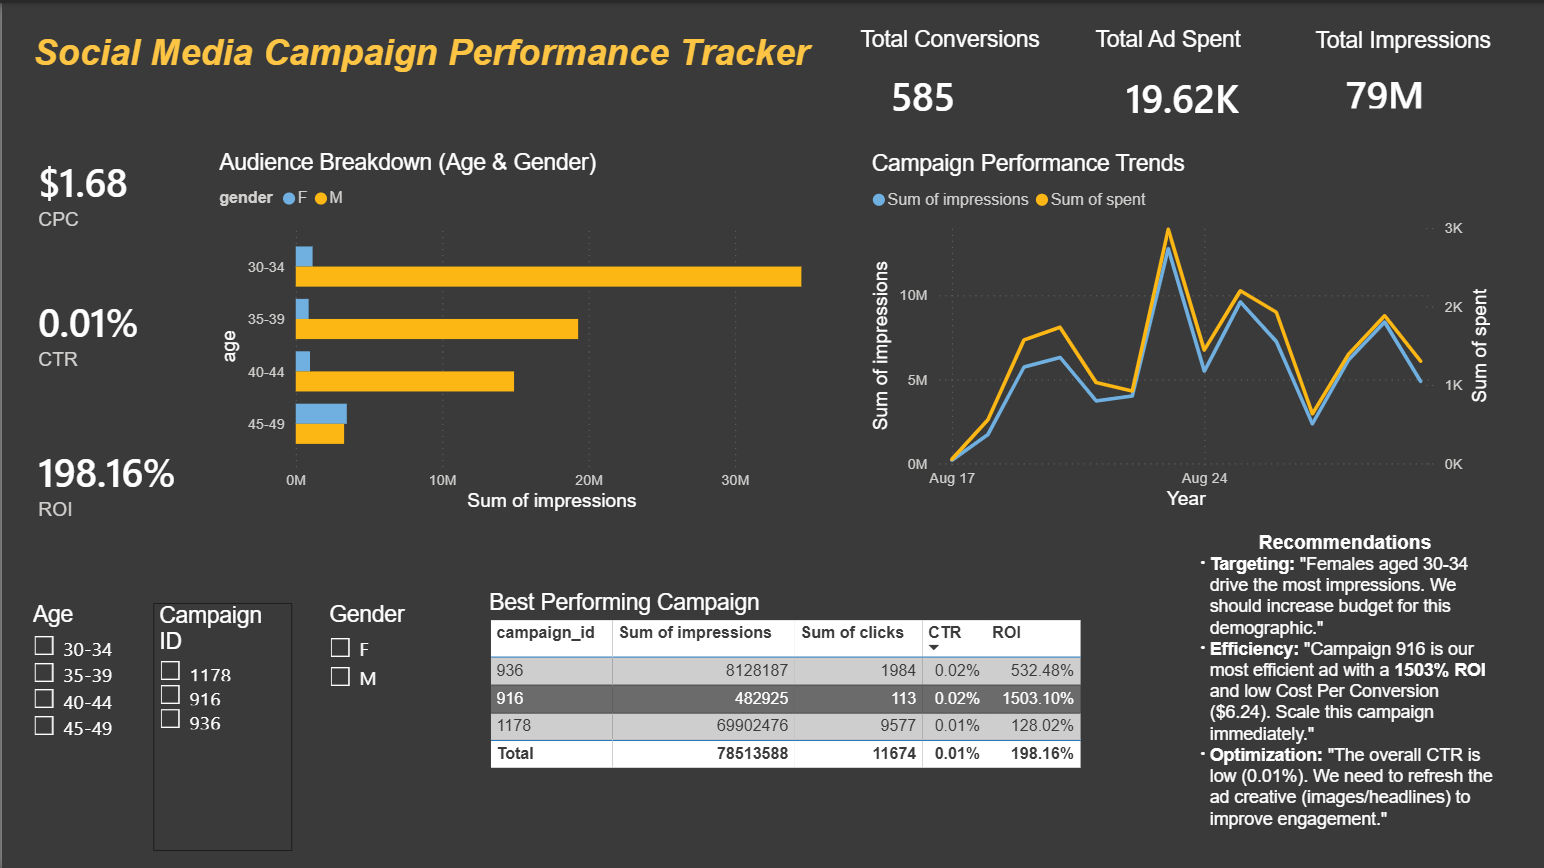

What the dashboard file says about the page in this screenshot:
{"tool":"powerbi","page":{"name":"Page 1","canvas":[1280,720],"ordinal":0},"visuals":[{"type":"cardVisual","title":"Total Ad Spent","fields":{"Data":["Sum(data.spent)"]},"box":[901.5,19.2,163.3,91.9],"z":0},{"type":"cardVisual","title":"Total Impressions","fields":{"Data":["Sum(data.impressions)"]},"box":[1084.1,20.6,166,85.1],"z":1000},{"type":"cardVisual","fields":{"Data":["data.CTR"]},"box":[0,221.3,177,102.1],"z":2000},{"type":"cardVisual","title":"Total Conversions","fields":{"Data":["Sum(data.approved_conversion)"]},"box":[706.7,19.2,168.8,87.8],"z":3000},{"type":"lineChart","title":"Campaign Performance Trends","fields":{"Y":["Sum(data.impressions)"],"Category":["data.reporting_start.Variation.Date Hierarchy.Year","data.reporting_start.Variation.Date Hierarchy.Quarter","data.reporting_start.Variation.Date Hierarchy.Month","data.reporting_start.Variation.Date Hierarchy.Day"],"Y2":["Sum(data.spent)"]},"box":[716.3,122.1,522.8,301.9],"z":4000},{"type":"tableEx","title":"Best Performing Campaign","fields":{"Values":["data.campaign_id","Sum(data.impressions)","Sum(data.clicks)","data.CTR","data.ROI"]},"box":[399.3,485.8,502.2,183.9],"z":5000},{"type":"listSlicer","title":"Gender","fields":{"Values":["data.gender"]},"box":[266.3,496.4,81.9,223.8],"z":5500},{"type":"listSlicer","title":"Campaign ID","fields":{"Values":["data.campaign_id"]},"box":[125.4,497.4,115,206.2],"z":6000},{"type":"listSlicer","title":"Age","fields":{"Values":["data.age"]},"box":[20.7,496.4,97.4,206.2],"z":8500},{"type":"cardVisual","fields":{"Data":["data.ROI"]},"box":[0,347.2,183.9,100.2],"z":9000},{"type":"cardVisual","fields":{"Data":["data.CPC"]},"box":[0,105.7,175.6,102.9],"z":10000},{"type":"textbox","box":[978.4,433.6,270.3,286.8],"z":11000},{"type":"textbox","box":[9.6,19.2,676.5,70],"z":12000},{"type":"clusteredBarChart","title":"Audience Breakdown (Age & Gender)","fields":{"Category":["data.age"],"Series":["data.gender"],"Y":["Sum(data.impressions)"]},"box":[175.6,120.8,510.5,304.6],"z":12500}]}

Visuals, with their boxes in screenshot pixels (x1, y1, x2, y2), scaled from the page's 1280x720 canvas onto the 1544x868 screenshot:
"Total Ad Spent" cardVisual: Rect(1087, 23, 1284, 134)
"Total Impressions" cardVisual: Rect(1308, 25, 1508, 127)
cardVisual - data.CTR: Rect(0, 267, 214, 390)
"Total Conversions" cardVisual: Rect(852, 23, 1056, 129)
"Campaign Performance Trends" lineChart: Rect(864, 147, 1495, 511)
"Best Performing Campaign" tableEx: Rect(482, 586, 1087, 807)
"Gender" listSlicer: Rect(321, 598, 420, 867)
"Campaign ID" listSlicer: Rect(151, 600, 290, 848)
"Age" listSlicer: Rect(25, 598, 142, 847)
cardVisual - data.ROI: Rect(0, 419, 222, 539)
cardVisual - data.CPC: Rect(0, 127, 212, 251)
textbox: Rect(1180, 523, 1506, 867)
textbox: Rect(12, 23, 828, 108)
"Audience Breakdown (Age & Gender)" clusteredBarChart: Rect(212, 146, 828, 513)
